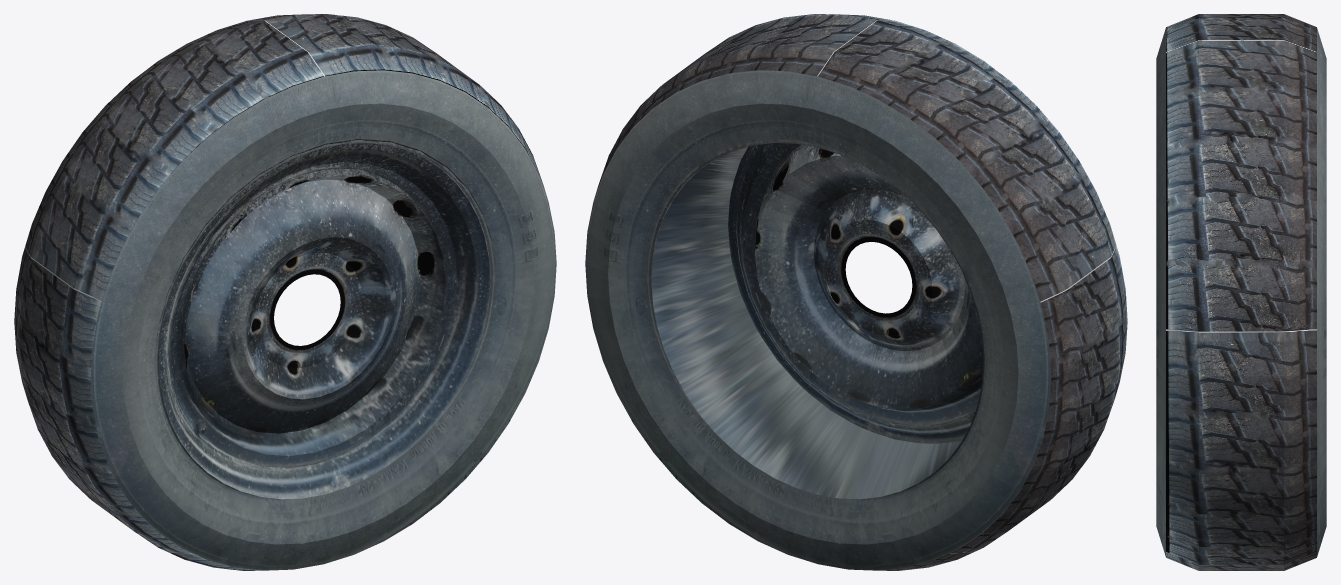
The model's file is wheel_01.gltf.
3 renders of one model, left to right at view 1: azimuth 30°, elevation 25°; view 2: azimuth 150°, elevation 25°; view 3: azimuth 270°, elevation 25°, orthographic.
Parts seen in each view (by area): view 1: Torus.001, Circle; view 2: Torus.001, Circle; view 3: Torus.001.
Boxes of the visible parts, left/top/right/bottom form: Torus.001: left=14, top=14, right=556, bottom=570; Circle: left=154, top=139, right=496, bottom=499; Torus.001: left=585, top=14, right=1127, bottom=570; Circle: left=728, top=143, right=983, bottom=443; Torus.001: left=1156, top=14, right=1326, bottom=570.
Bounding box in the file's own units: 3.34 × 3.34 × 1.02.
Materials: 1 (1 with a texture image).
